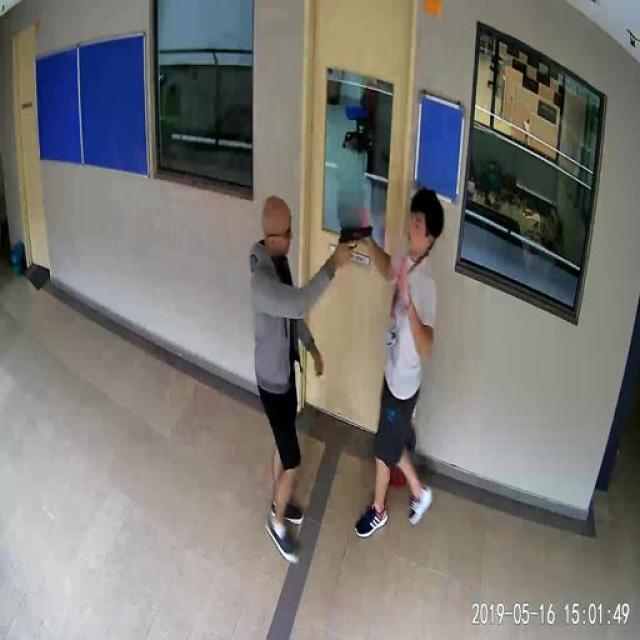Gun: (332, 218, 381, 272)
